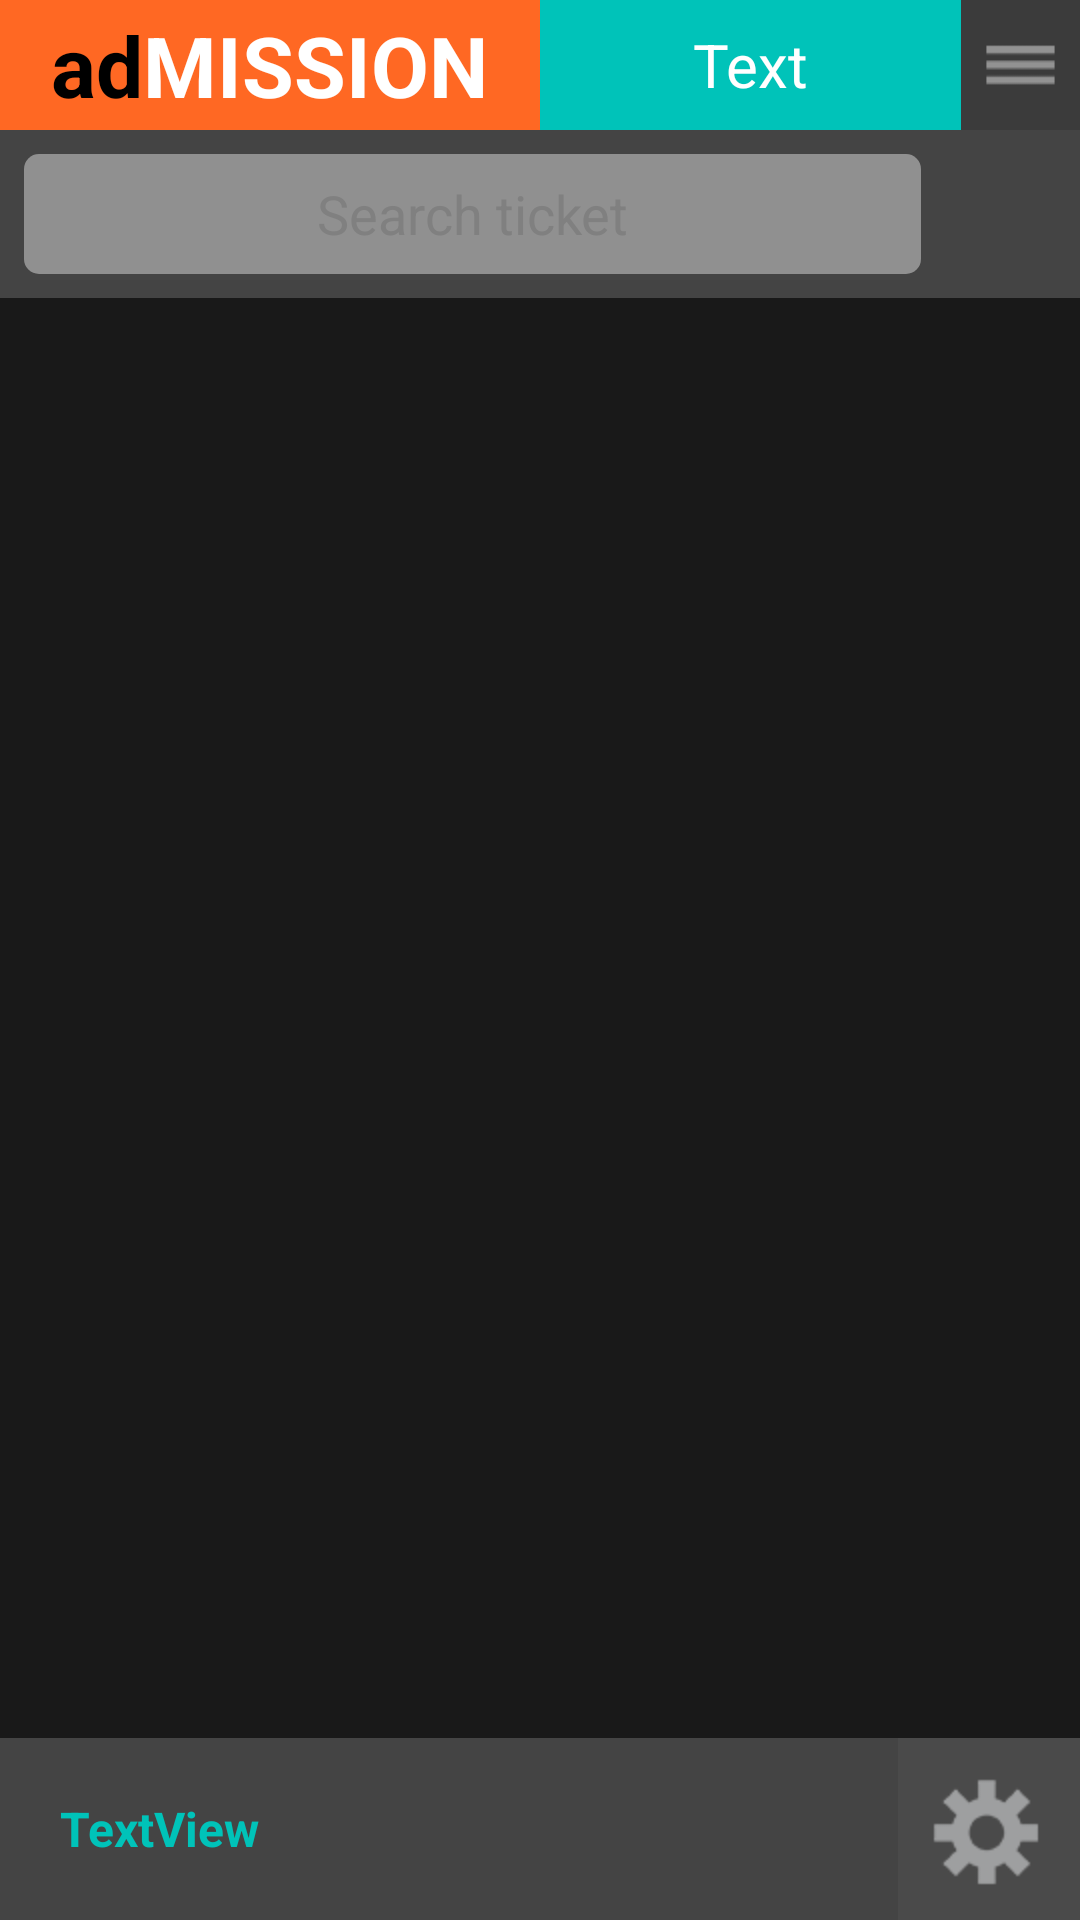

Screen size 1080x1920. Icon name, then its center in pixels as (x=x, y=y):
menu: (x=1020, y=65)
